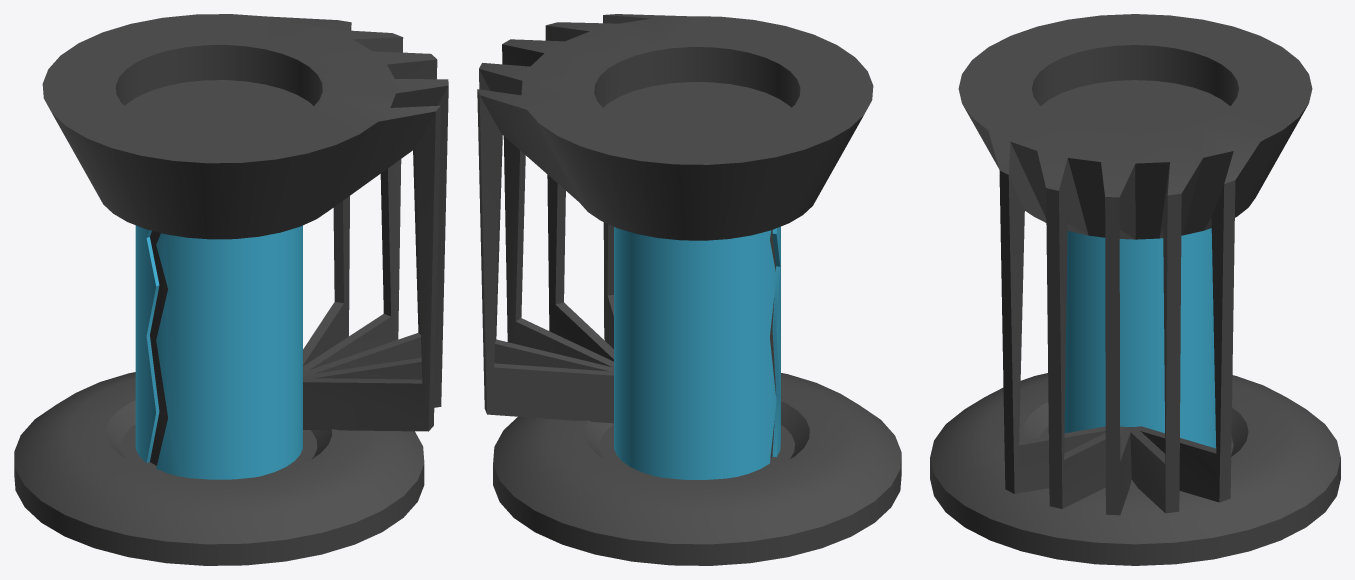
The picture shows the model from 3 angles, left to right: view 1: azimuth 30°, elevation 25°; view 2: azimuth 150°, elevation 25°; view 3: azimuth 270°, elevation 25°; orthographic projection.
Visible parts, largest first — view 1: Cylinder-col; view 2: Cylinder-col; view 3: Cylinder-col.
Part boxes in pixels (x1,y1,x2,y2): Cylinder-col: (14, 14, 448, 565); Cylinder-col: (477, 14, 901, 565); Cylinder-col: (930, 14, 1340, 565).
Size of the model in its own units: 10.09 by 9.85 by 9.4.
